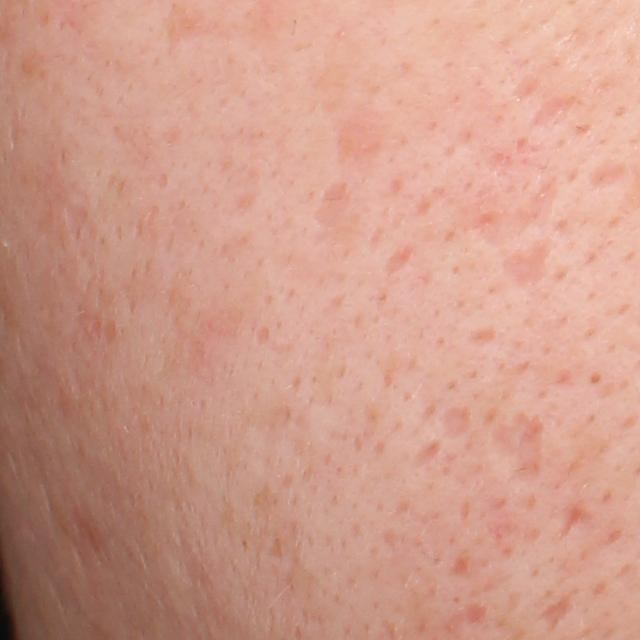atrophic_scar: (164, 0, 232, 58), (493, 411, 547, 480), (498, 238, 563, 288), (509, 176, 557, 236), (308, 180, 353, 232), (432, 406, 474, 446), (523, 102, 577, 131), (558, 499, 593, 540), (463, 320, 514, 347), (409, 438, 447, 471), (540, 595, 575, 629), (586, 161, 624, 190), (380, 243, 412, 277), (506, 73, 541, 104), (444, 549, 472, 580), (465, 604, 486, 626)
comedo: (580, 365, 604, 389)
